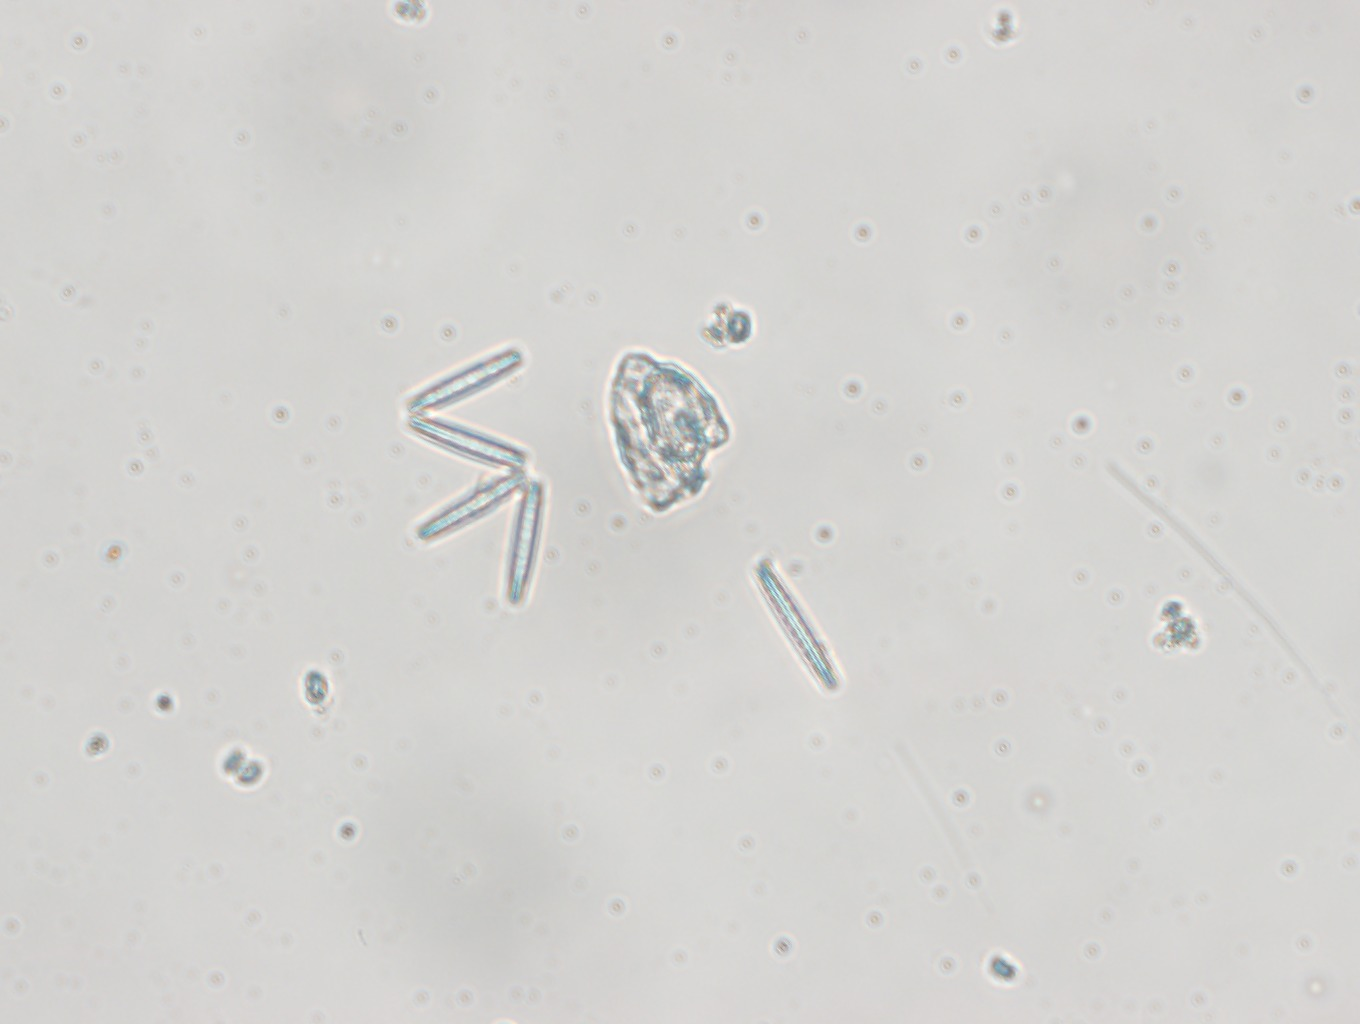thalassionema nitzschioides: (401, 345, 549, 603), (751, 559, 844, 692)
